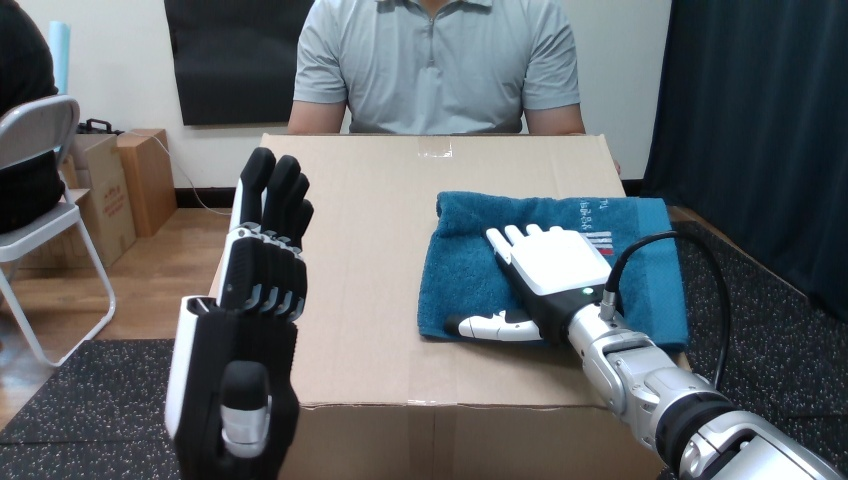left robot hand: (165, 147, 312, 478), (672, 221, 847, 475)
